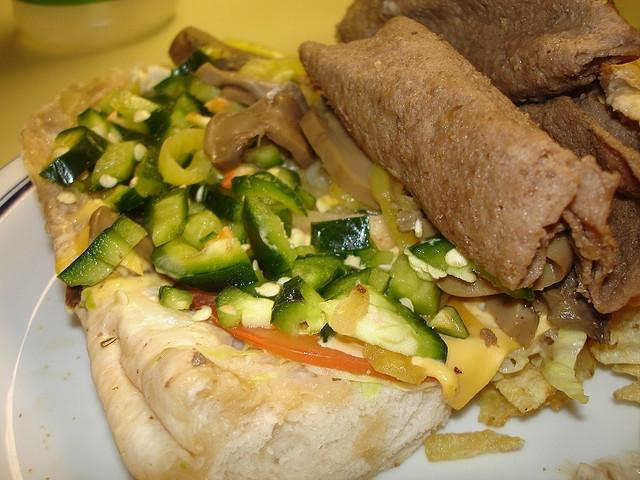bell pepper: (318, 286, 448, 364), (402, 234, 536, 302), (151, 226, 259, 293), (136, 93, 202, 199), (58, 212, 148, 286), (242, 194, 316, 282), (39, 126, 111, 187), (98, 86, 170, 138), (386, 253, 443, 316), (270, 250, 348, 296), (270, 279, 328, 338), (232, 172, 308, 216), (88, 138, 147, 194), (158, 128, 212, 186), (144, 186, 188, 247), (214, 285, 275, 329), (310, 215, 370, 253), (178, 209, 224, 251), (322, 266, 376, 300), (77, 106, 125, 144), (240, 134, 285, 169), (207, 183, 245, 223), (426, 305, 469, 340), (170, 50, 218, 78), (185, 72, 222, 103), (158, 285, 194, 310), (153, 76, 188, 100), (276, 168, 302, 192), (187, 201, 204, 216), (258, 197, 278, 207)
mushroom: (203, 93, 316, 171), (298, 110, 382, 212), (169, 26, 272, 66), (193, 61, 280, 102), (484, 293, 540, 350), (531, 232, 575, 292)
tomato: (190, 287, 439, 383), (220, 170, 234, 192)
